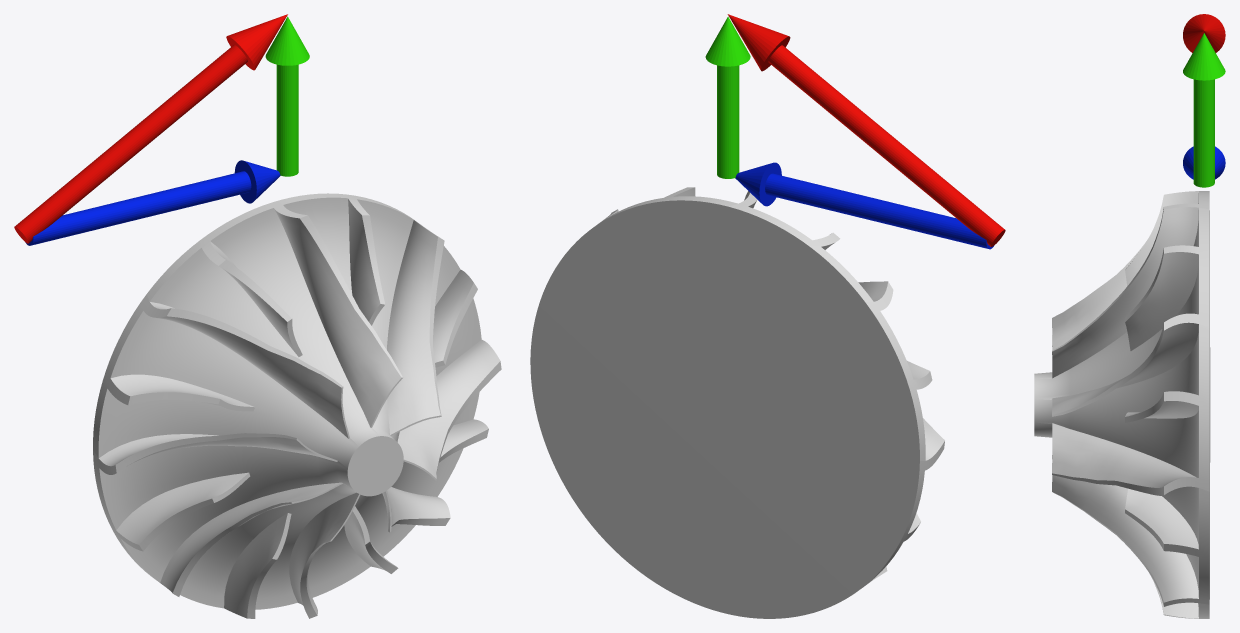
File: compressor.glb
3 views of the same model, side by side, from view 1: azimuth 30°, elevation 25°; view 2: azimuth 150°, elevation 25°; view 3: azimuth 270°, elevation 25° (orthographic). The views are drawn at different scales.
Visible parts, largest first — view 1: Impeller, arrow3, arrow1, arrow2; view 2: Impeller, arrow3, arrow1, arrow2; view 3: Impeller, arrow2, arrow3, arrow1.
Boxes of the visible parts, x1=… form: Impeller: x1=93, y1=193, x2=501, y2=618; arrow3: x1=14, y1=14, x2=287, y2=243; arrow1: x1=25, y1=160, x2=280, y2=245; arrow2: x1=265, y1=16, x2=309, y2=176; Impeller: x1=530, y1=187, x2=944, y2=618; arrow3: x1=727, y1=14, x2=1005, y2=246; arrow1: x1=735, y1=162, x2=993, y2=249; arrow2: x1=705, y1=16, x2=750, y2=178; Impeller: x1=1034, y1=191, x2=1210, y2=618; arrow2: x1=1183, y1=33, x2=1225, y2=187; arrow3: x1=1183, y1=14, x2=1225, y2=52; arrow1: x1=1183, y1=146, x2=1225, y2=179.
Bounding box in the file's own units: 2.42 × 2.94 × 0.8937.
